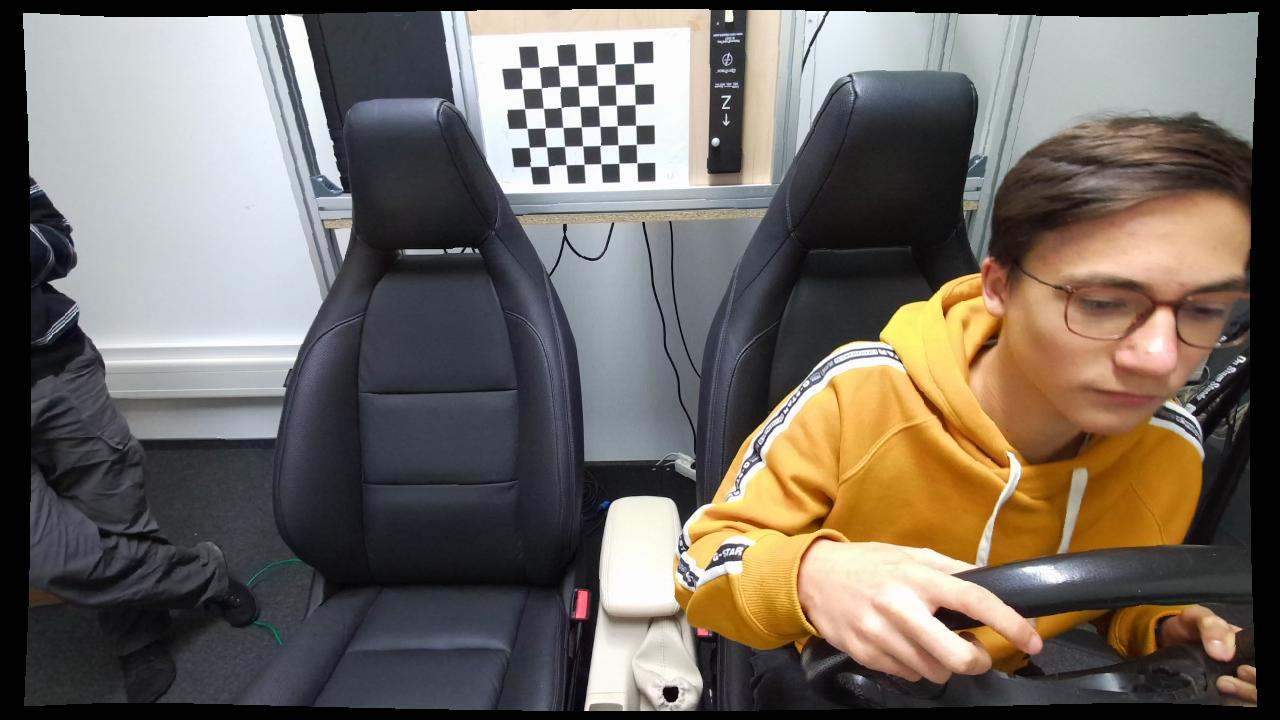Distracted: (667, 114, 1260, 712)
